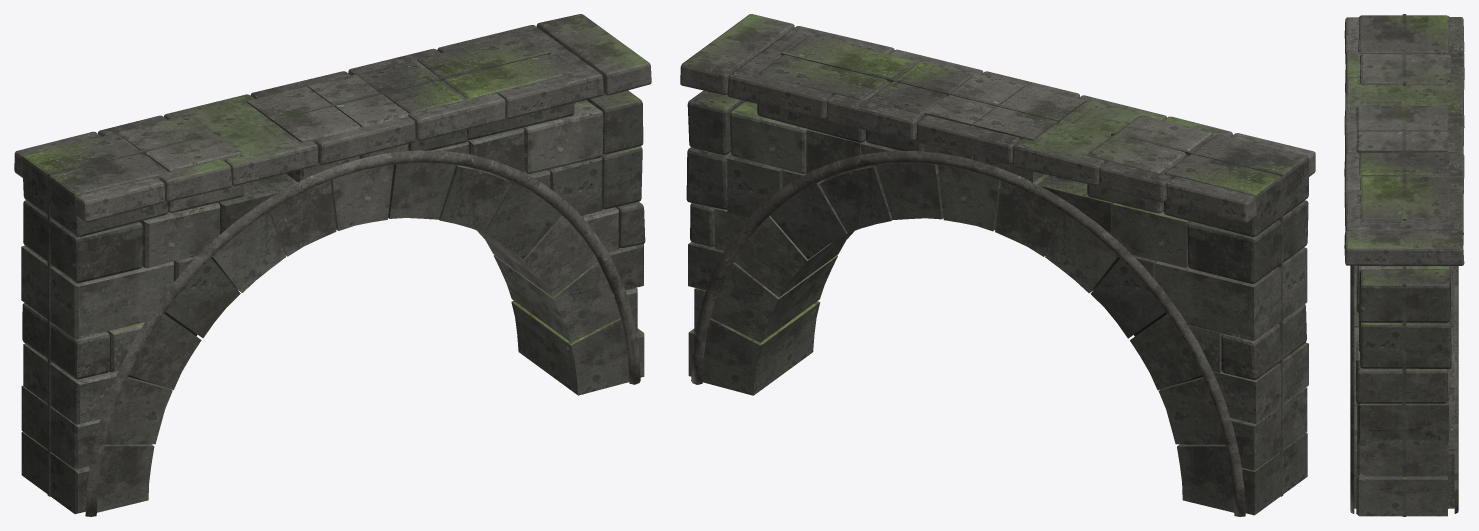
Rendered from ER_Ecoincon_Arc_6m5.gltf.
3 views of the same model, side by side, from view 1: azimuth 30°, elevation 25°; view 2: azimuth 150°, elevation 25°; view 3: azimuth 270°, elevation 25° (orthographic). The views are drawn at different scales.
Parts seen in each view (by area): view 1: ER_Ecoincon_Arc_6m5_P.001, ER_Ecoincon_Arc_6m5_MOUL.001, ER_Ecoincon_Arc_6m5_PS.001; view 2: ER_Ecoincon_Arc_6m5_P.001, ER_Ecoincon_Arc_6m5_MOUL.001, ER_Ecoincon_Arc_6m5_PS.001; view 3: ER_Ecoincon_Arc_6m5_P.001, ER_Ecoincon_Arc_6m5_MOUL.001, ER_Ecoincon_Arc_6m5_PS.001.
Boxes of the visible parts, x1,y1,x2,y2 form: ER_Ecoincon_Arc_6m5_P.001: (21,35,645,513); ER_Ecoincon_Arc_6m5_MOUL.001: (14,14,651,516); ER_Ecoincon_Arc_6m5_PS.001: (47,51,550,496); ER_Ecoincon_Arc_6m5_P.001: (686,35,1308,515); ER_Ecoincon_Arc_6m5_MOUL.001: (680,14,1315,516); ER_Ecoincon_Arc_6m5_PS.001: (780,51,1283,496); ER_Ecoincon_Arc_6m5_P.001: (1354,15,1454,516); ER_Ecoincon_Arc_6m5_MOUL.001: (1344,17,1464,513); ER_Ecoincon_Arc_6m5_PS.001: (1402,14,1406,516).
Size of the model in its own units: 6.51 by 3.52 by 1.42.
Materials: 4 (3 with a texture image).
